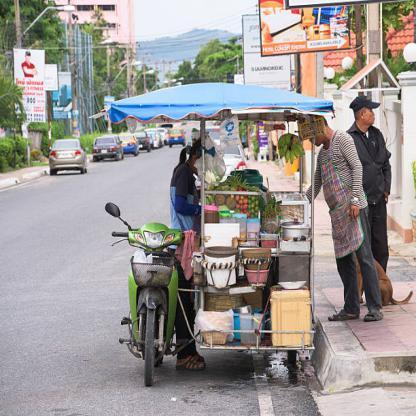Motorcycle: (100, 196, 189, 389)
